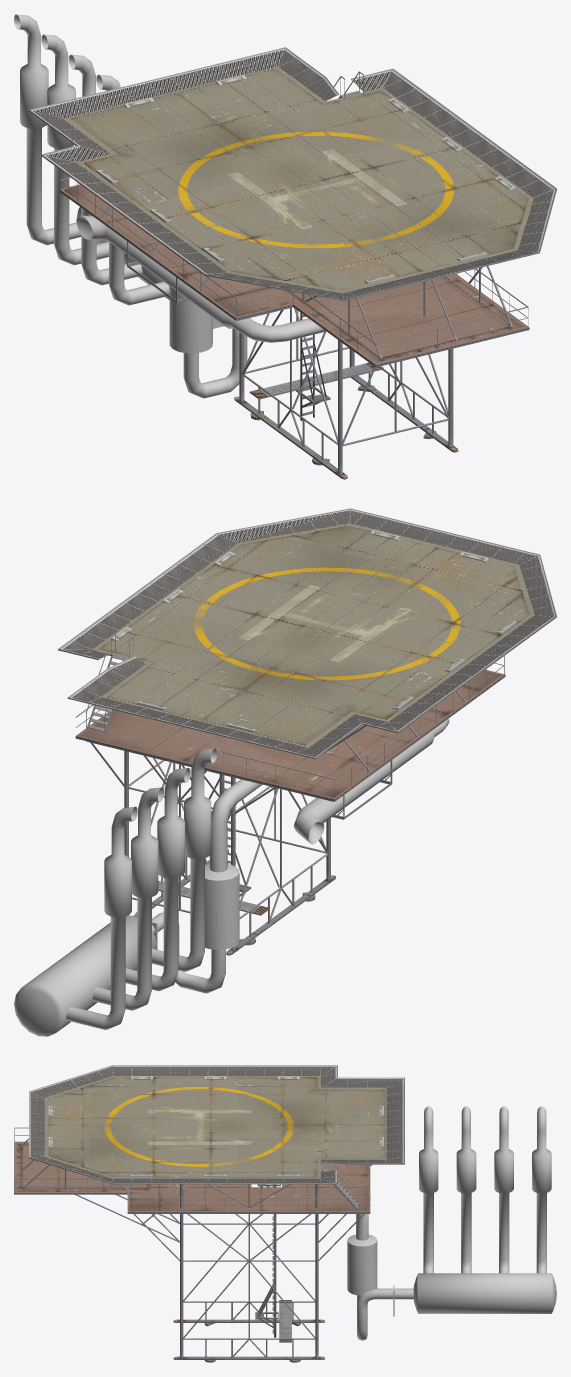
Rendered from oilRig_heliPad_AST.fbx.
3 renders of one model, top to bottom at view 1: azimuth 30°, elevation 25°; view 2: azimuth 150°, elevation 25°; view 3: azimuth 270°, elevation 25°, orthographic. The views are drawn at different scales.
Parts seen in each view (by area): view 1: helipad; view 2: helipad; view 3: helipad.
Boxes of the visible parts, <box> form: helipad: <box>14,14,556,479</box>; helipad: <box>14,508,556,1036</box>; helipad: <box>14,1065,556,1362</box>.
Size of the model in its own units: 2060 by 1768 by 4001.
